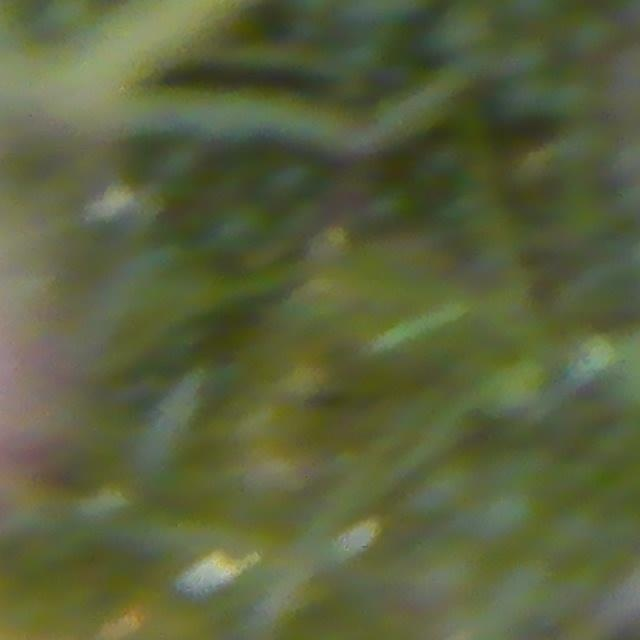SeaGrape: (563, 4, 619, 58), (436, 0, 493, 53), (505, 32, 552, 79)
